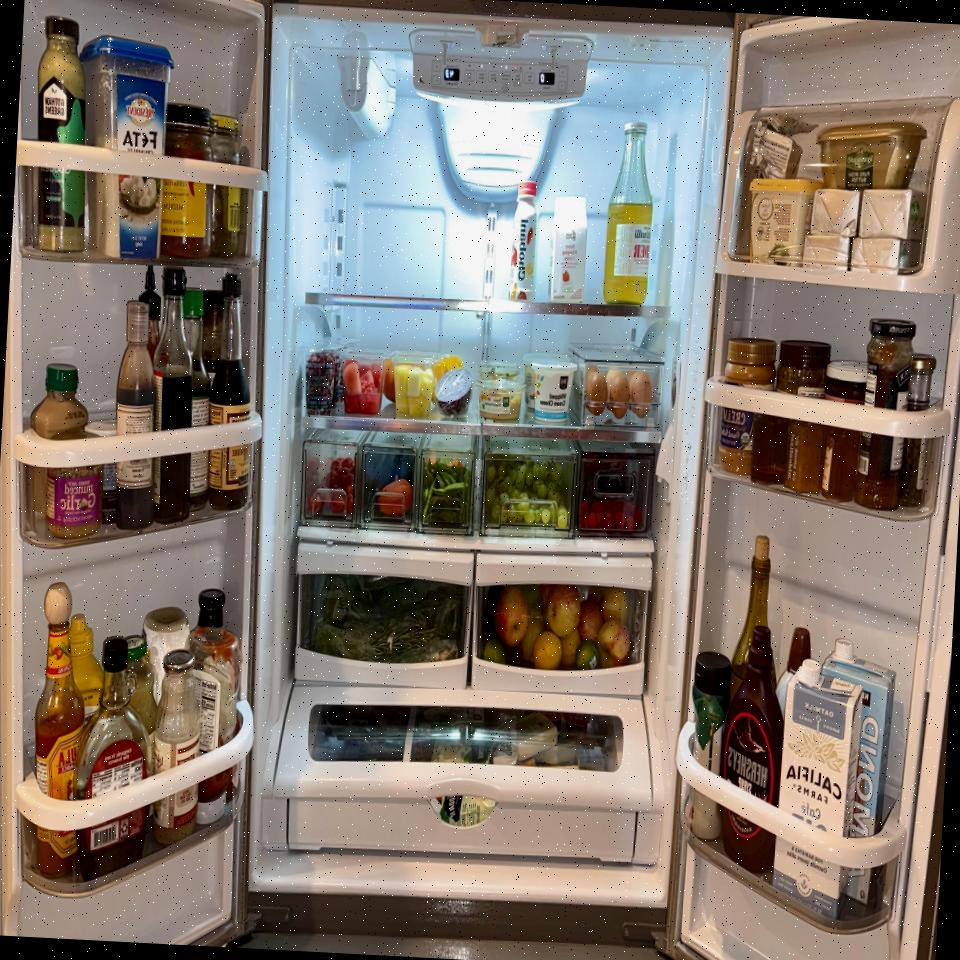Huevos: (582, 362, 659, 420)
Limón: (531, 631, 564, 671), (603, 588, 630, 622)
Mantequilla: (857, 188, 926, 241), (850, 234, 920, 278), (809, 186, 861, 237), (801, 231, 850, 273)
Manzana: (494, 586, 532, 648), (546, 582, 582, 638), (596, 618, 630, 670), (577, 600, 604, 640)
Tomate: (307, 455, 358, 516), (376, 478, 412, 516)
